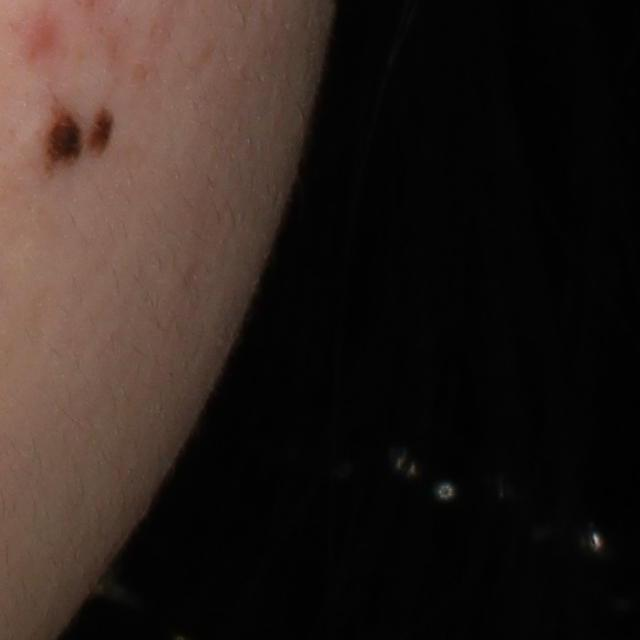nevus: (42, 94, 86, 181), (83, 102, 115, 161)
